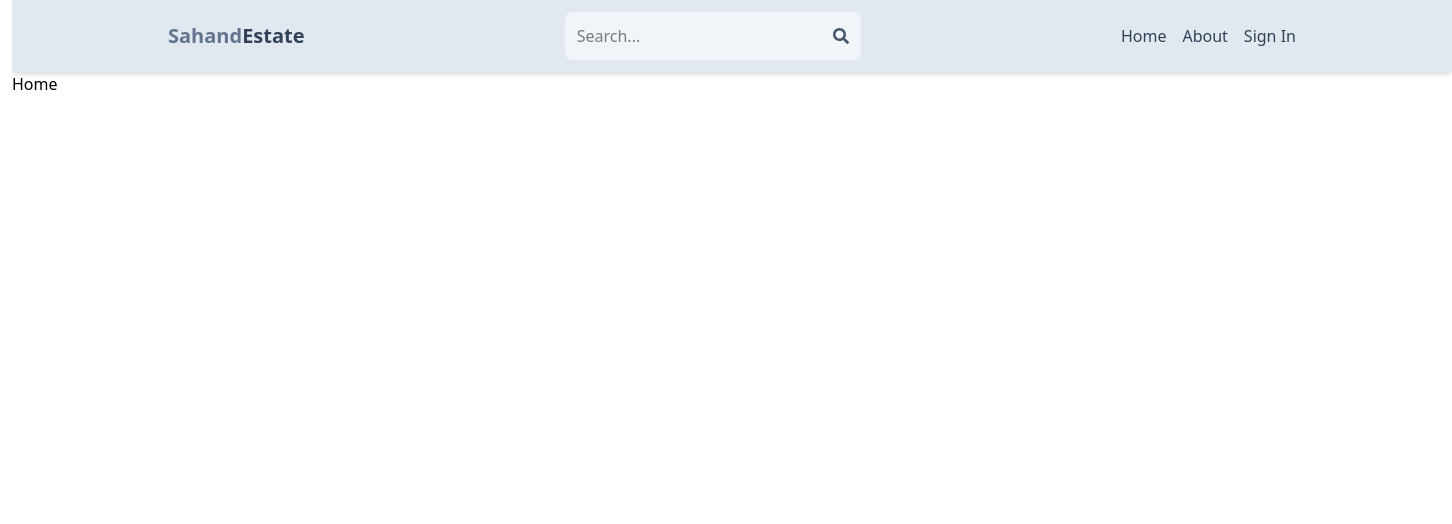
Test: Sign In Page Integration › should show error message on API failure
# Navigate to signin page
Click the link "Sign In".
click(1270, 36)  # box [1244,24,1296,48]
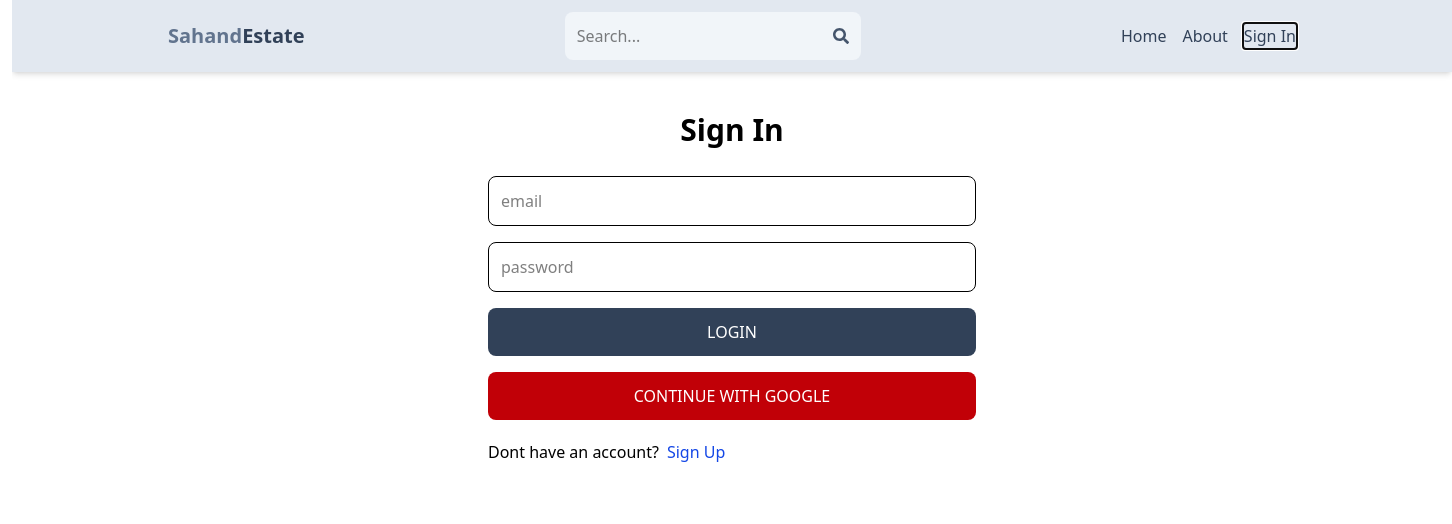
# Fill out input
Type "wrong@email.com" into the field with placeholder "email".
click(732, 201); type("wrong@email.com")  # box [488,176,976,226]
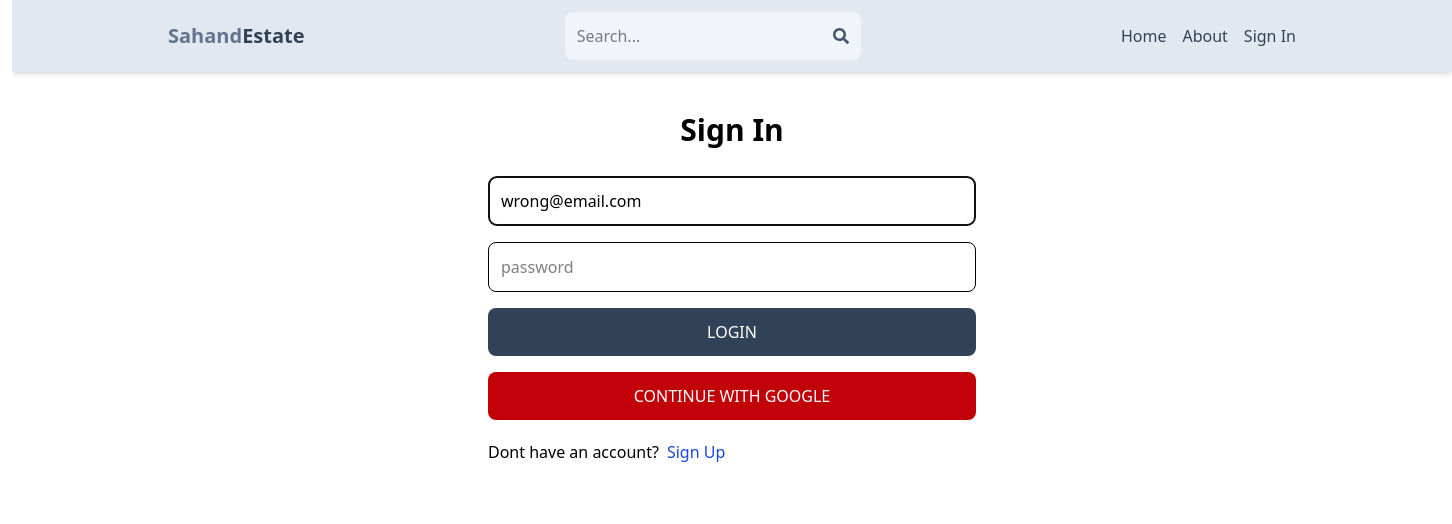
Type "testPassword" into the password field with placeholder "password".
click(732, 267); type("testPassword")  # box [488,242,976,292]
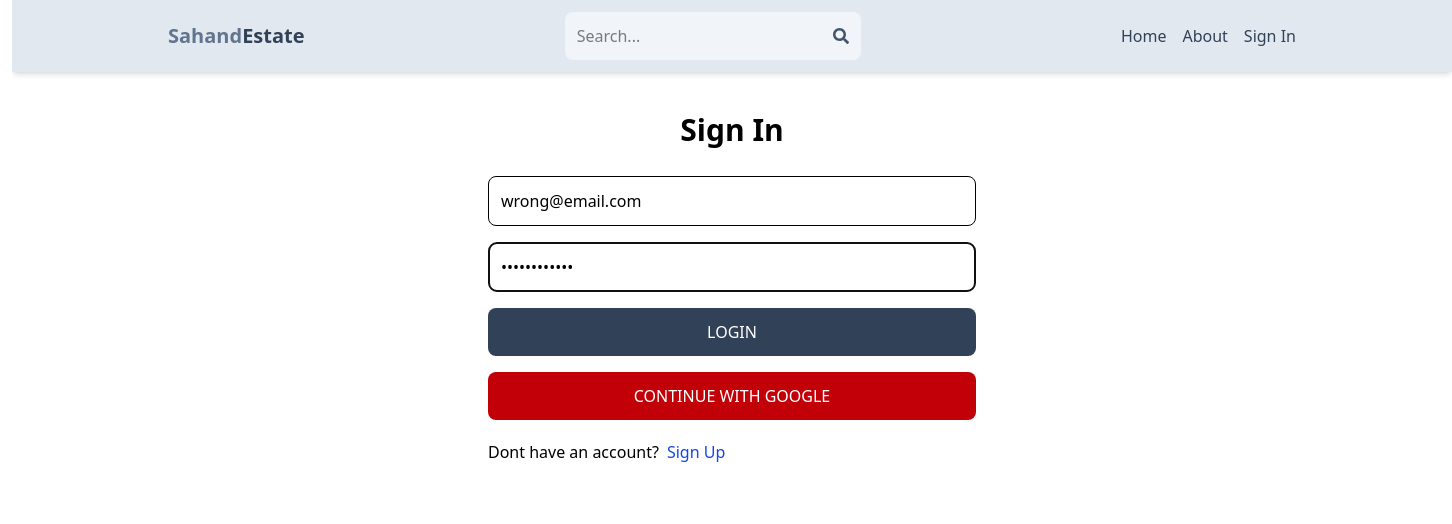
# Submit the form
Click the button "Login".
click(732, 332)  # box [488,308,976,356]
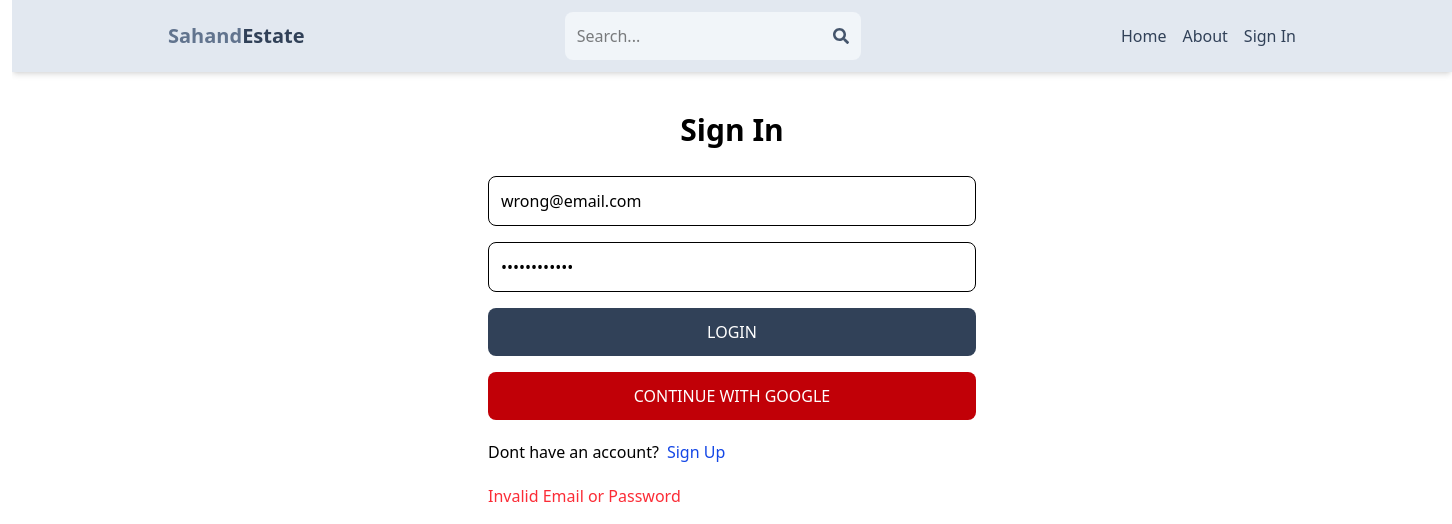
Now the text "Invalid Email or Password" is shown, box [488,485,681,507]
